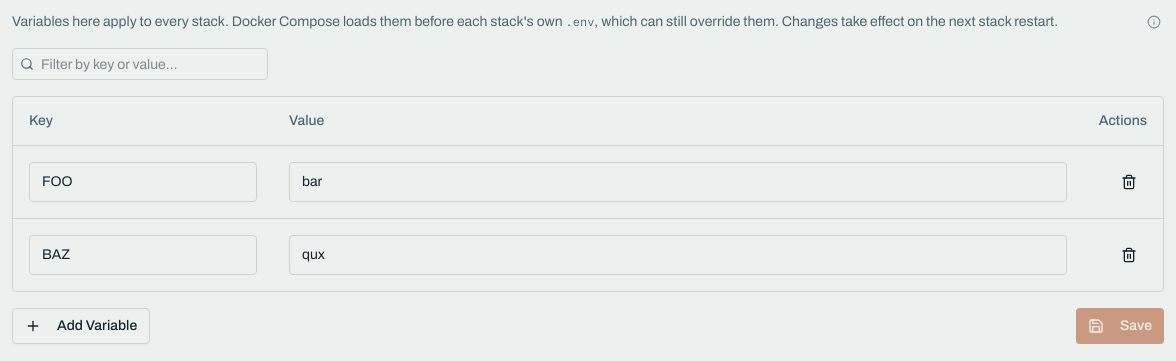
Test: GlobalEnvSettingsContent › deletes a variable row
The image size is (1176, 361).
Step 1. Click the button named "Remove global env 1" → click(1129, 182), box [1111,164,1147,200]
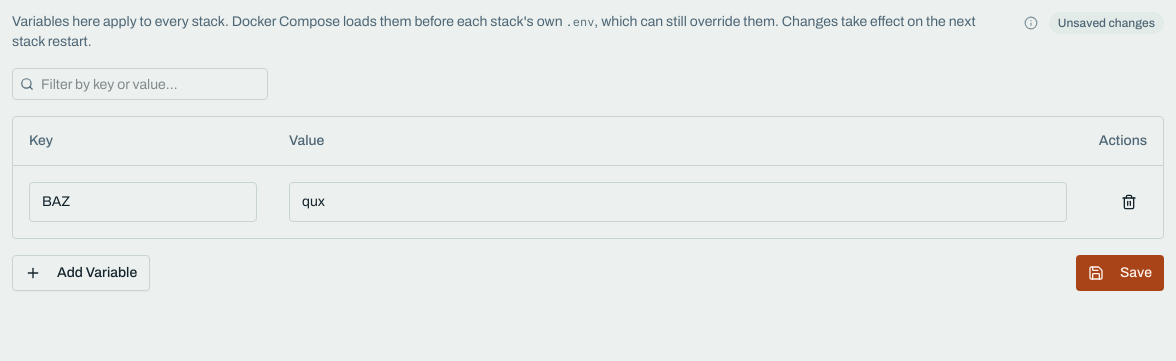
expect the field showing "qux" is shown: met, box [289,182,1067,222]
